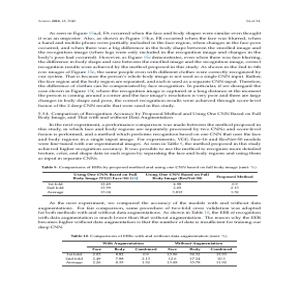table: (41, 168, 263, 198), (61, 237, 238, 270)
text: (36, 30, 262, 163), (38, 201, 263, 233)
